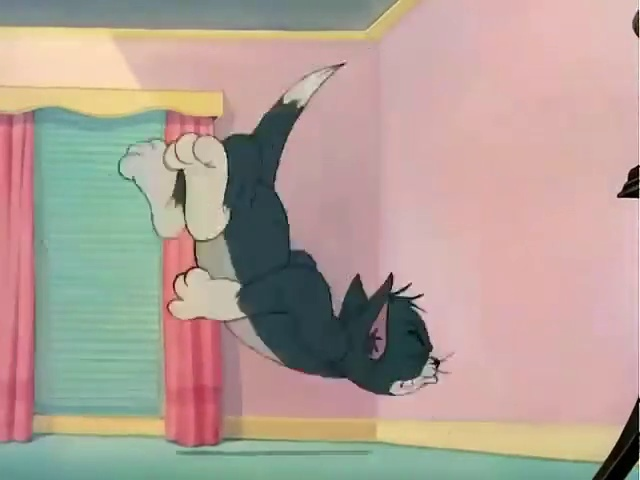tom: (100, 71, 465, 428)
